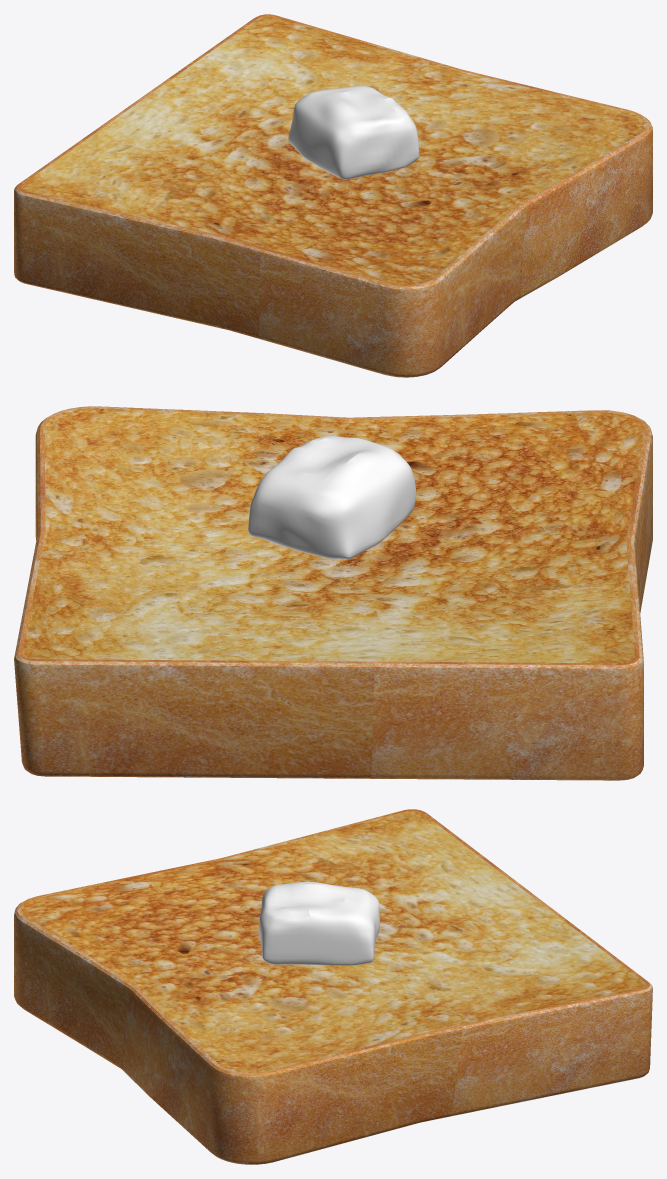
File: white_bread.glb
3 renders of one model, top to bottom at view 1: azimuth 30°, elevation 25°; view 2: azimuth 150°, elevation 25°; view 3: azimuth 270°, elevation 25°, orthographic. The views are drawn at different scales.
Parts seen in each view (by area): view 1: Cube, Cube.001; view 2: Cube, Cube.001; view 3: Cube, Cube.001.
Boxes of the visible parts, x1,y1,x2,y2 form: Cube: [14, 14, 652, 377]; Cube.001: [288, 86, 419, 179]; Cube: [14, 406, 652, 780]; Cube.001: [248, 436, 416, 559]; Cube: [14, 809, 652, 1164]; Cube.001: [258, 881, 380, 965].
Size of the model in its own units: 2.62 by 0.6792 by 2.64.
Materials: 3 (2 with a texture image).
